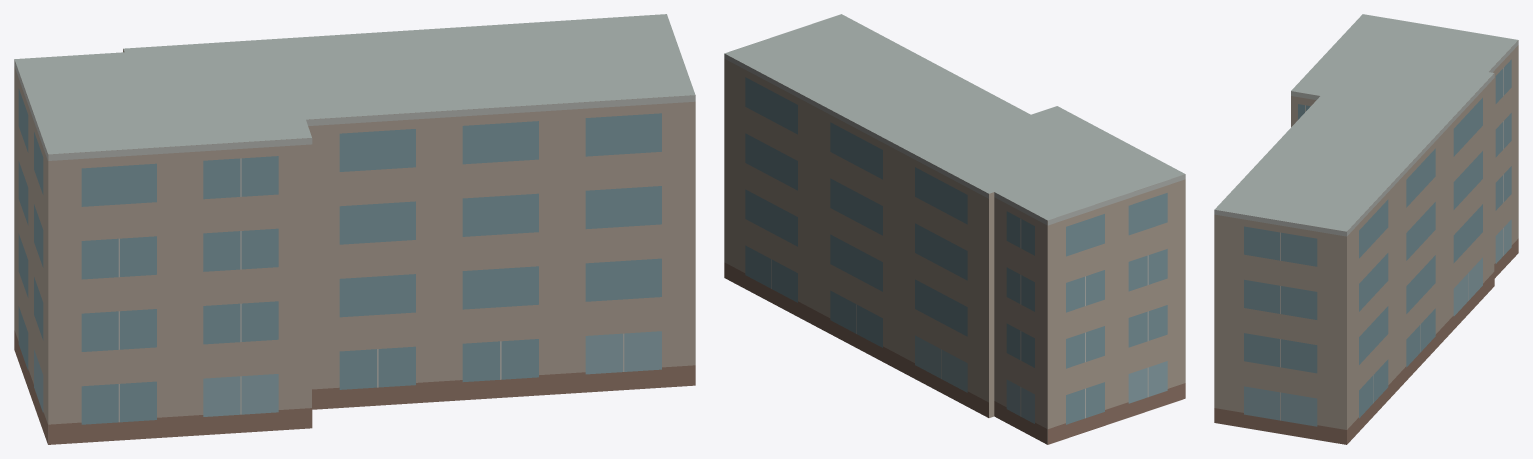
The model's file is survey-upis-32702273.glb.
3 views of the same model, side by side, from view 1: azimuth 30°, elevation 25°; view 2: azimuth 150°, elevation 25°; view 3: azimuth 270°, elevation 25° (orthographic). The views are drawn at different scales.
Visible parts, largest first — view 1: survey-upis-32702273.tmp; view 2: survey-upis-32702273.tmp; view 3: survey-upis-32702273.tmp.
Boxes of the visible parts, x1,y1,x2,y2 form: survey-upis-32702273.tmp: [14, 14, 695, 444]; survey-upis-32702273.tmp: [724, 14, 1185, 444]; survey-upis-32702273.tmp: [1214, 14, 1518, 444].
Size of the model in its own units: 23.45 by 10.7 by 13.84.
